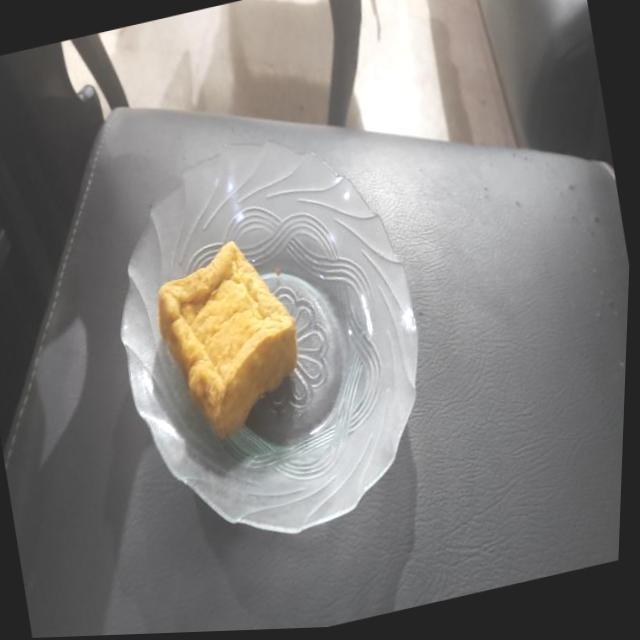tahu_goreng: (158, 241, 297, 438)
